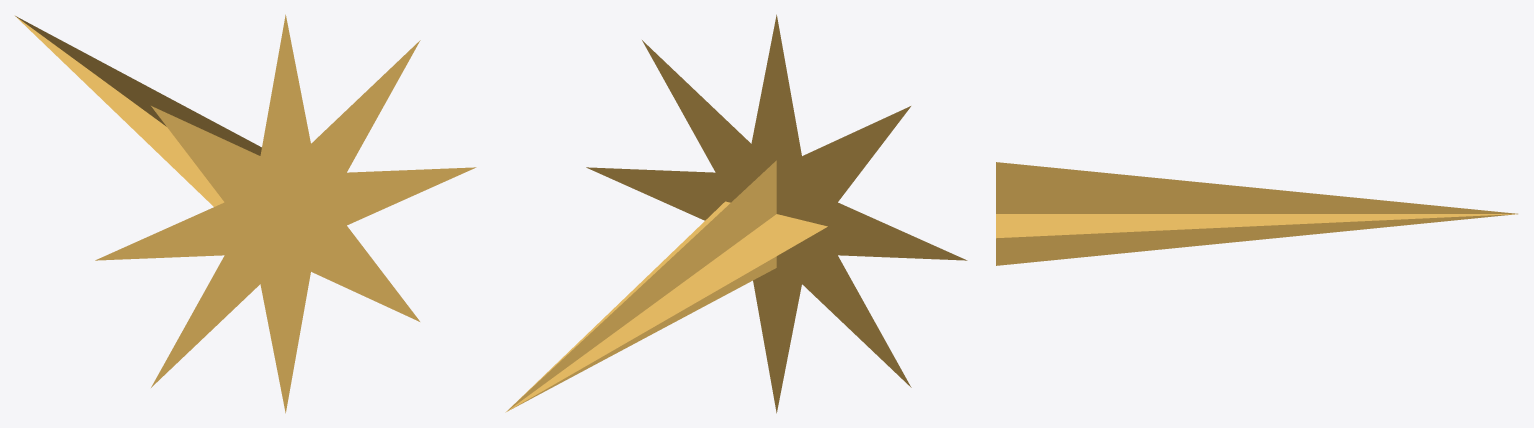
File: muzzleflash.obj
3 renders of one model, left to right at view 1: azimuth 30°, elevation 25°; view 2: azimuth 150°, elevation 25°; view 3: azimuth 270°, elevation 25°, orthographic. The views are drawn at different scales.
Visible parts, largest first — view 1: Flash_0; view 2: Flash_0; view 3: Flash_0.
Boxes of the visible parts, x1=… form: Flash_0: x1=14, y1=14, x2=476, y2=413; Flash_0: x1=505, y1=14, x2=967, y2=413; Flash_0: x1=996, y1=162, x2=1517, y2=265.
Size of the model in its own units: 0.26 by 0.26 by 0.32.
